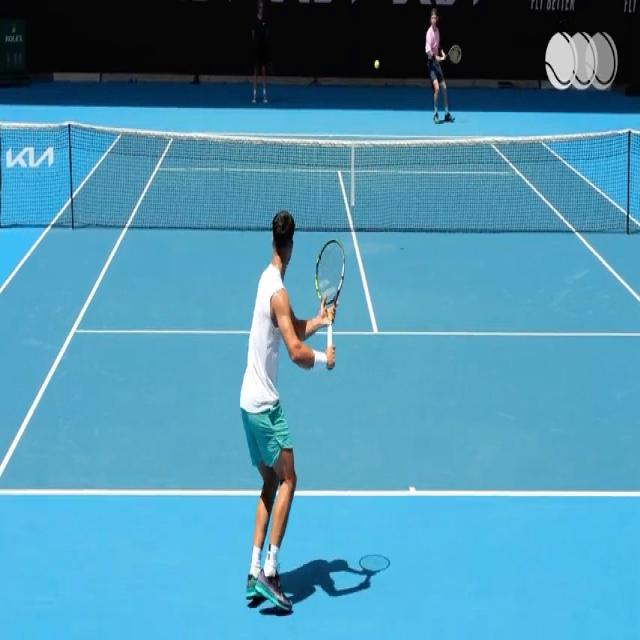forehand-ready: (242, 214, 351, 614)
